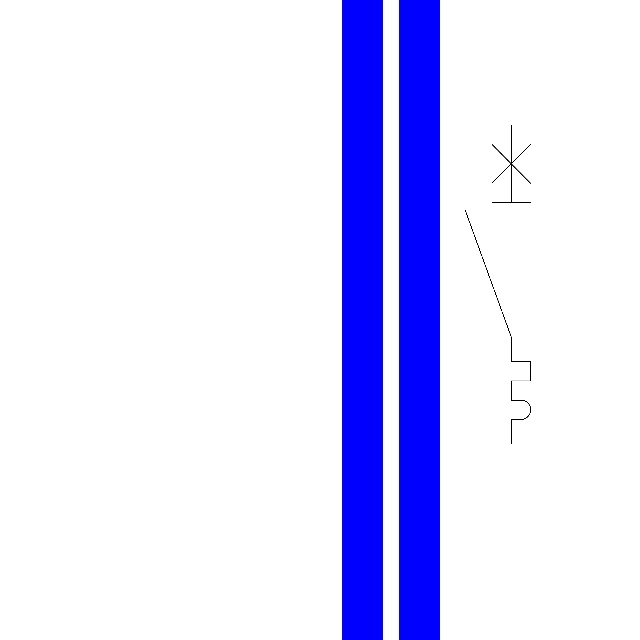interruptor_termomagnetico: (457, 117, 539, 452)
